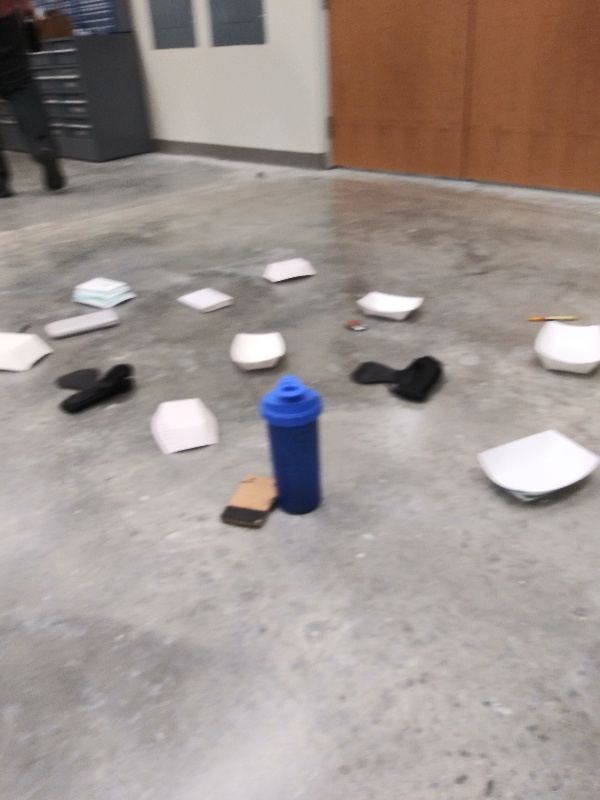plate: (470, 426, 600, 508), (146, 394, 224, 458), (530, 319, 600, 382), (224, 329, 289, 373), (66, 275, 143, 310), (1, 329, 56, 377), (353, 289, 428, 324), (261, 254, 319, 287)
